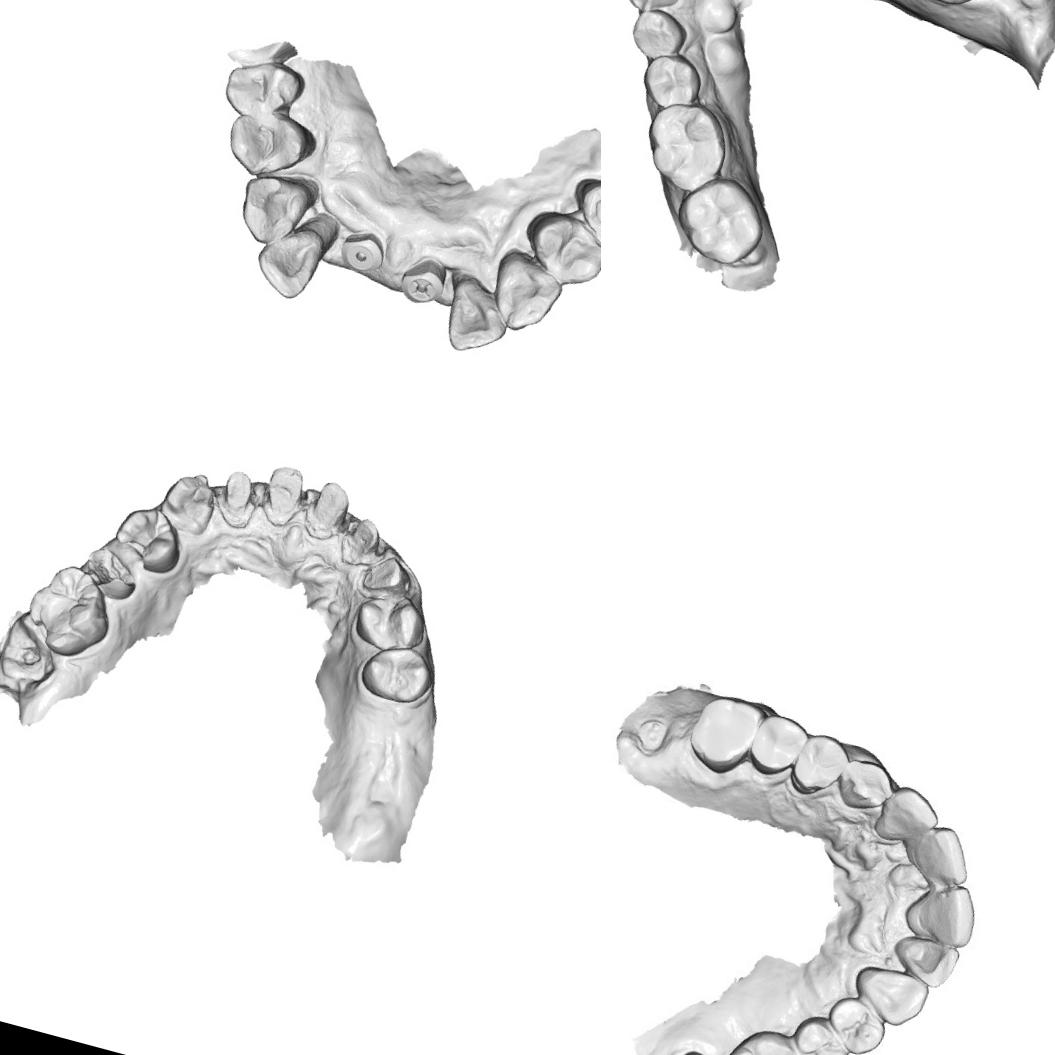canine: (481, 247, 569, 340), (227, 166, 316, 254), (842, 954, 934, 1033), (150, 463, 224, 539), (826, 749, 898, 819), (614, 0, 686, 21)
crown: (256, 458, 311, 529), (302, 474, 356, 540), (358, 549, 416, 601), (213, 460, 261, 520), (340, 512, 385, 562)
implant: (336, 227, 388, 279)
implant_plus: (394, 253, 450, 312)
incisor: (434, 273, 516, 362), (248, 218, 327, 304), (906, 878, 982, 952), (873, 778, 944, 853), (908, 823, 978, 893), (894, 931, 961, 988)
molar: (15, 555, 124, 667), (665, 166, 775, 272), (635, 92, 737, 197), (686, 689, 766, 776), (711, 1017, 821, 1055)
premolar: (217, 101, 321, 190), (516, 203, 601, 294), (215, 50, 309, 131), (105, 497, 191, 580), (346, 583, 434, 663), (353, 633, 441, 712), (74, 526, 152, 604), (630, 46, 708, 116), (820, 991, 890, 1055), (624, 3, 692, 66), (749, 711, 811, 775), (792, 732, 852, 797), (559, 171, 601, 258), (784, 1013, 855, 1055)
